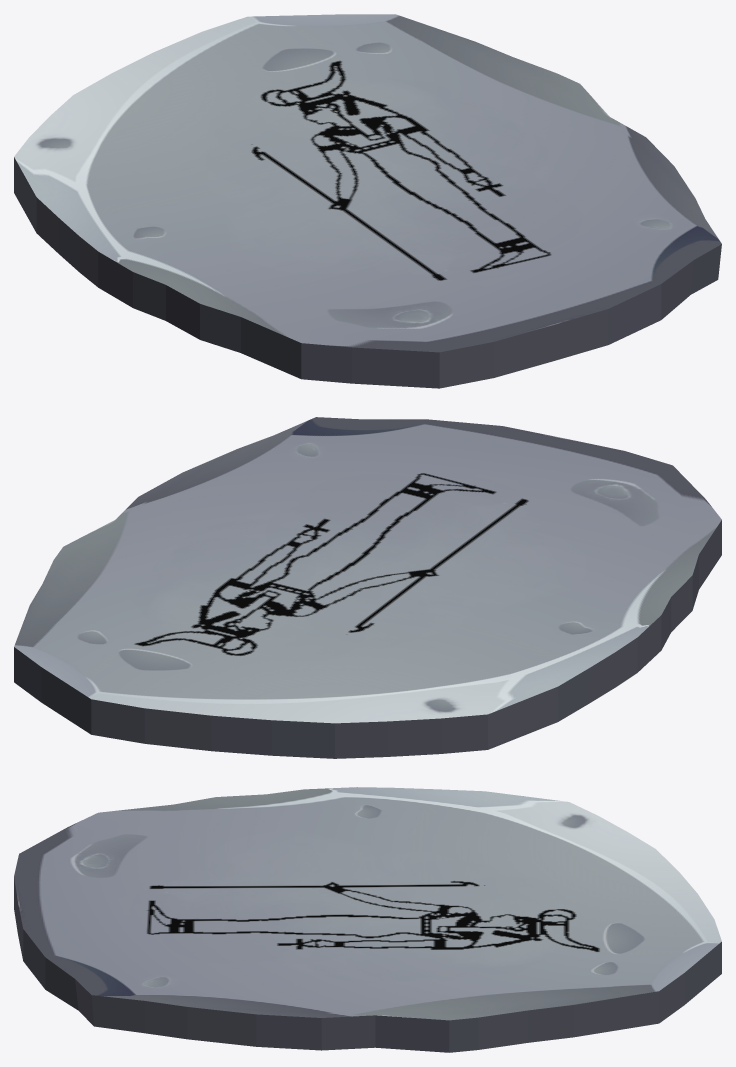
Rendered from runeSerqet.glb.
3 renders of one model, top to bottom at view 1: azimuth 30°, elevation 25°; view 2: azimuth 150°, elevation 25°; view 3: azimuth 270°, elevation 25°, orthographic. The views are drawn at different scales.
Visible parts, largest first — view 1: rune; view 2: rune; view 3: rune.
Part boxes in pixels (bbox=[...]): rune: bbox=[14, 14, 721, 388]; rune: bbox=[14, 417, 721, 758]; rune: bbox=[14, 787, 721, 1052].
Bounding box in the file's own units: 0.7844 × 0.0509 × 1.01.
1 material, 1 textured.
